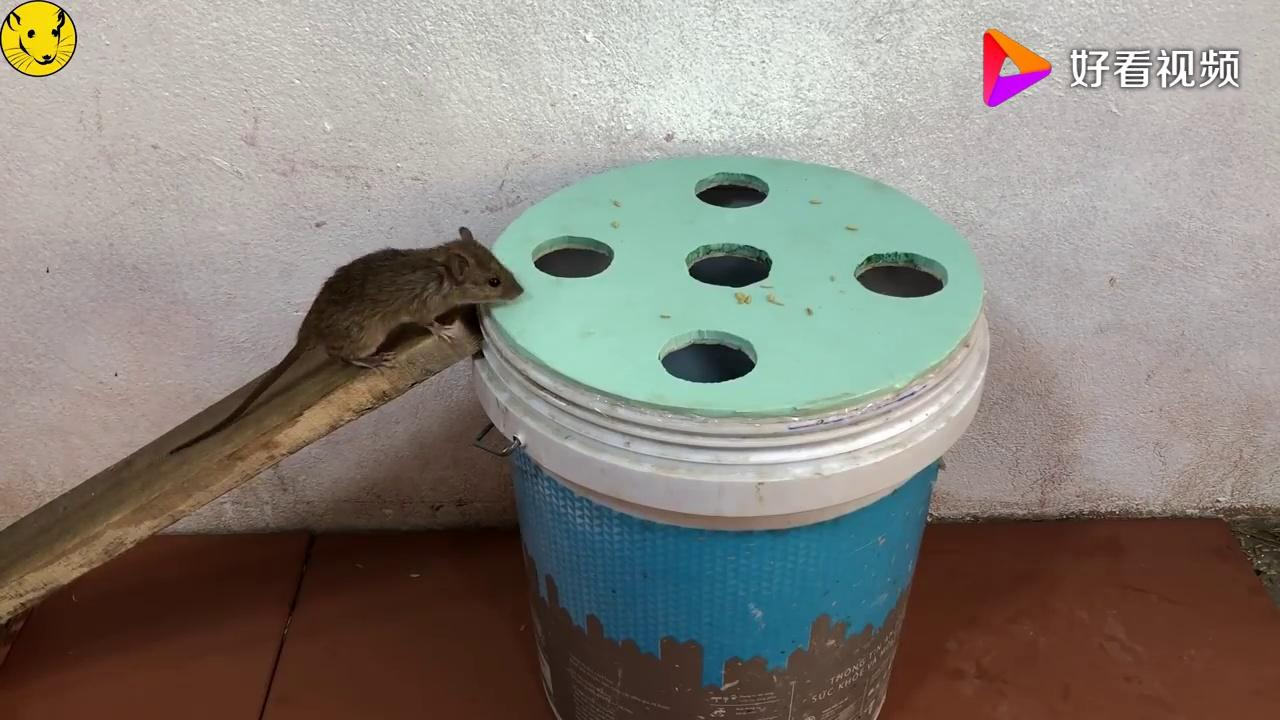rat: (235, 201, 537, 433)
